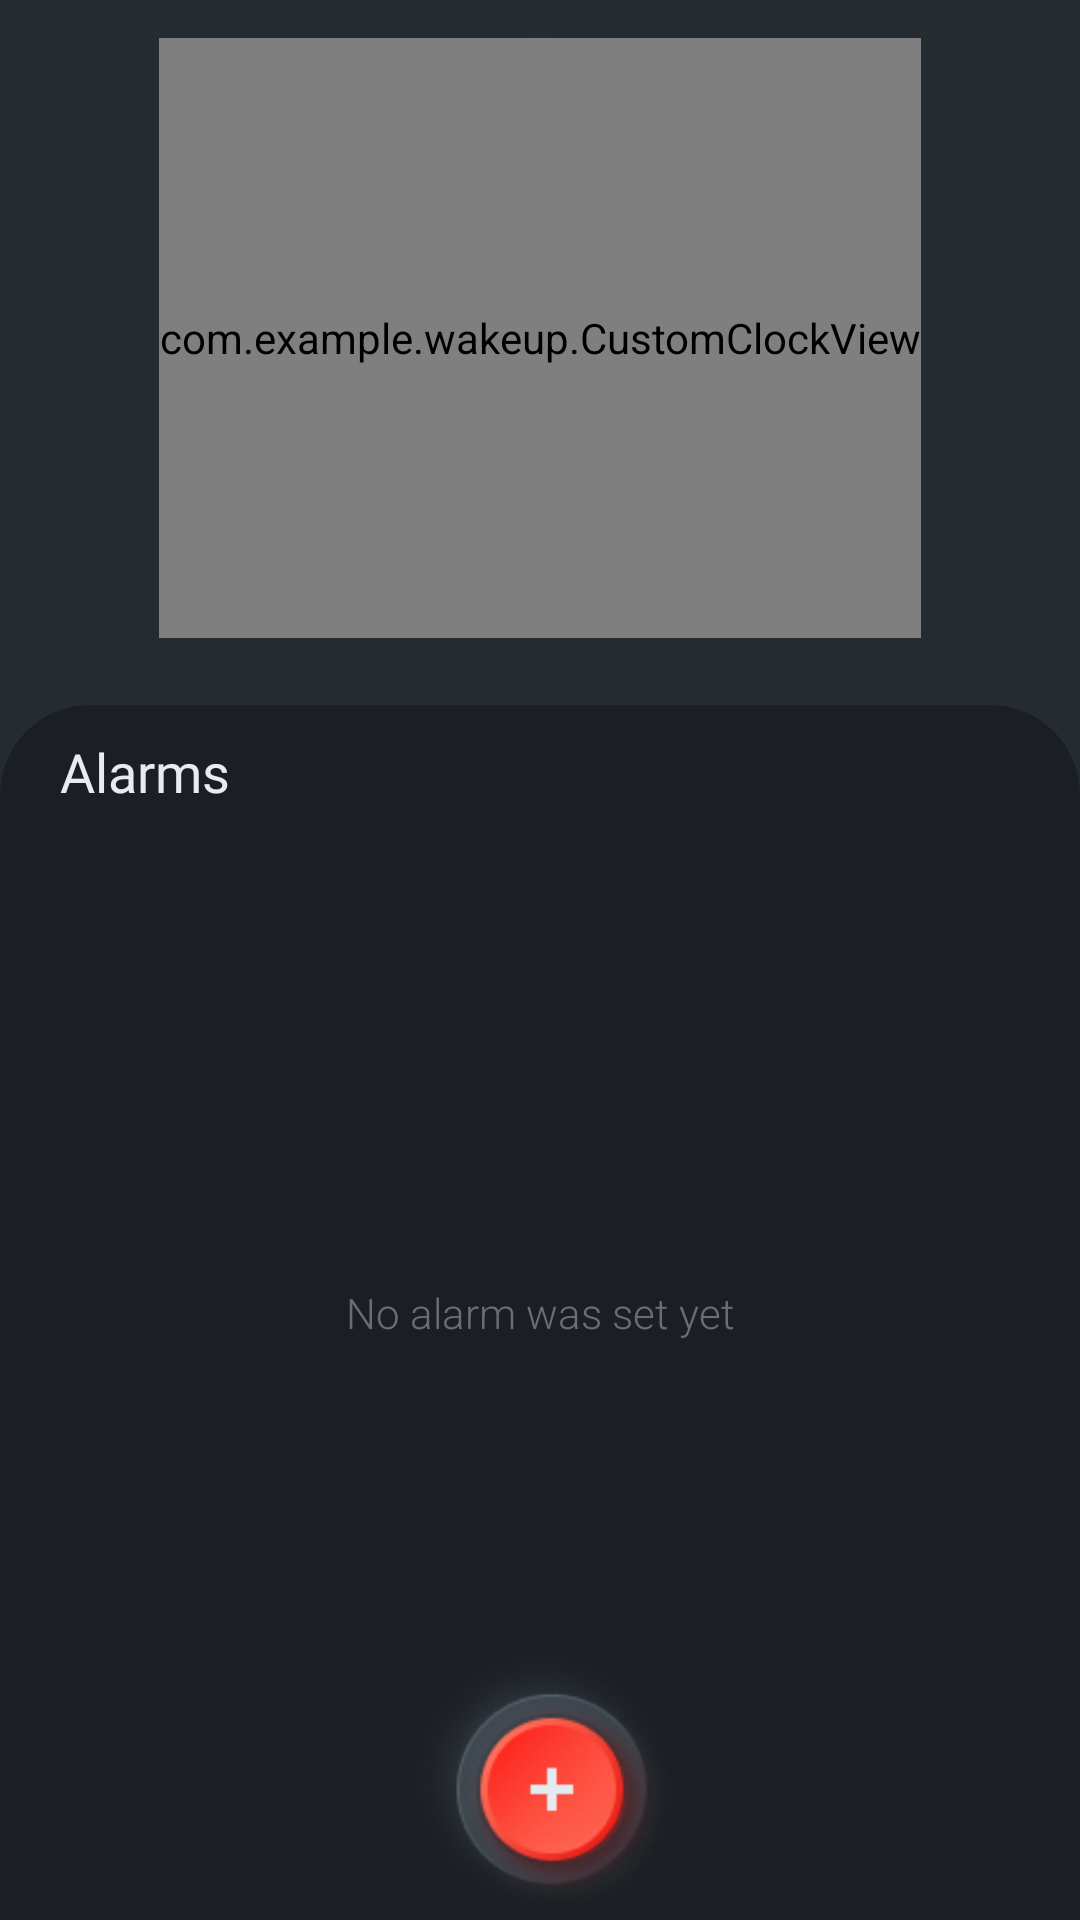

Named icons in this screenshot (1080×1920) and their centers, [x,y]:
Floating Action Button: [551,1789]
